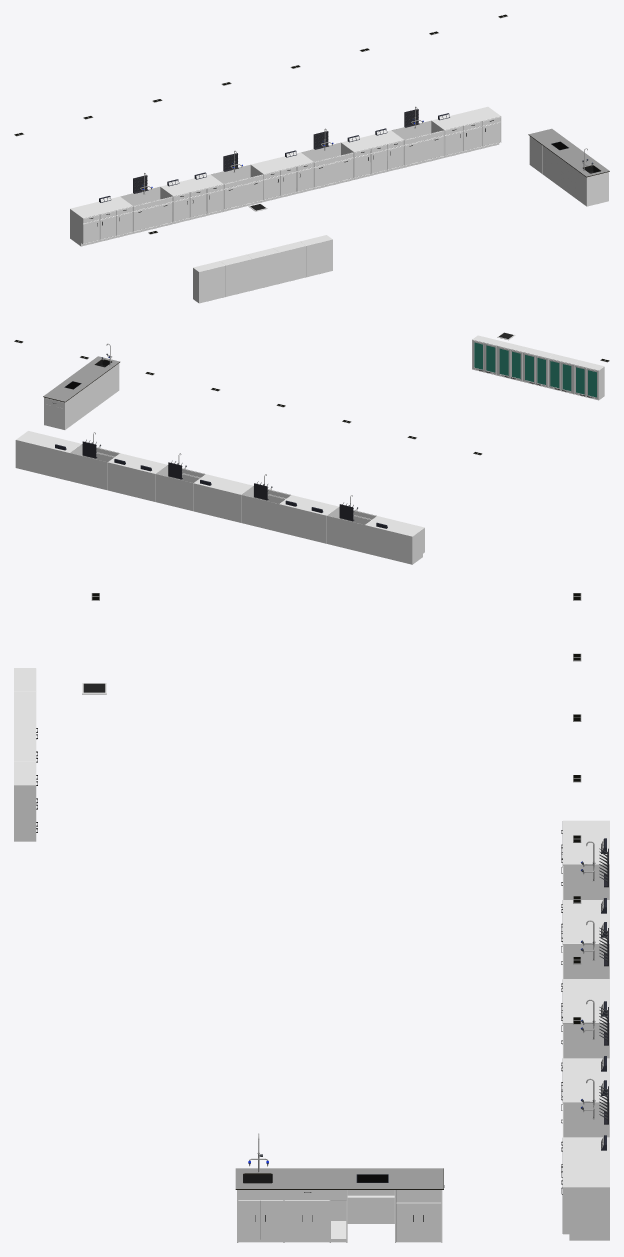
The picture shows the model from 3 angles, top to bottom: view 1: azimuth 30°, elevation 25°; view 2: azimuth 150°, elevation 25°; view 3: azimuth 270°, elevation 25°; orthographic projection. The views are drawn at different scales.
Visible parts, largest first — view 1: Obj3d66-1109493-598-547, Obj3d66-1109493-537-709, Obj3d66-1109493-487-641, Obj3d66-1109493-530-823, Obj3d66-1109493-408-890, Obj3d66-1109493-406-767, Obj3d66-1109493-528-585, Obj3d66-1109493-449-649, Obj3d66-1109493-485-197, Obj3d66-1109493-623-189, Obj3d66-1109493-365-480, Obj3d66-1109493-359-979 (+5 smaller); view 2: Obj3d66-1109493-537-709, Obj3d66-1109493-598-547, Obj3d66-1109493-487-641, Obj3d66-1109493-530-823, Obj3d66-1109493-408-890, Obj3d66-1109493-449-649, Obj3d66-1109493-406-767, Obj3d66-1109493-485-197, Obj3d66-1109493-528-585, Obj3d66-1109493-623-189, Obj3d66-1109493-365-480, Obj3d66-1109493-347-704 (+13 smaller); view 3: Obj3d66-1109493-537-709, Obj3d66-1109493-623-189, Obj3d66-1109493-487-641, Obj3d66-1109493-530-823, Obj3d66-1109493-408-890, Obj3d66-1109493-598-547, Obj3d66-1109493-341-802, Obj3d66-1109493-406-767, Obj3d66-1109493-449-649, Obj3d66-1109493-528-585, Obj3d66-1109493-655-103, Obj3d66-1109493-634-145 (+5 smaller).
Part boxes in pixels (box(x1,y1,x2,y2)): Obj3d66-1109493-598-547: box(70, 196, 133, 246); Obj3d66-1109493-537-709: box(431, 106, 501, 158); Obj3d66-1109493-487-641: box(250, 152, 313, 202); Obj3d66-1109493-530-823: box(341, 130, 404, 180); Obj3d66-1109493-408-890: box(160, 174, 223, 224); Obj3d66-1109493-406-767: box(120, 187, 173, 234); Obj3d66-1109493-528-585: box(391, 120, 444, 168); Obj3d66-1109493-449-649: box(211, 164, 263, 212); Obj3d66-1109493-485-197: box(301, 142, 353, 190); Obj3d66-1109493-623-189: box(528, 128, 609, 177); Obj3d66-1109493-365-480: box(193, 261, 225, 303); Obj3d66-1109493-359-979: box(220, 254, 252, 296); Obj3d66-1109493-537-709: box(15, 431, 81, 480); Obj3d66-1109493-598-547: box(365, 516, 424, 564); Obj3d66-1109493-487-641: box(193, 474, 253, 522); Obj3d66-1109493-530-823: box(108, 453, 167, 501); Obj3d66-1109493-408-890: box(279, 495, 338, 543); Obj3d66-1109493-449-649: box(241, 486, 291, 531); Obj3d66-1109493-406-767: box(327, 506, 376, 552); Obj3d66-1109493-485-197: box(155, 465, 205, 511); Obj3d66-1109493-528-585: box(69, 444, 119, 490); Obj3d66-1109493-623-189: box(43, 356, 119, 402); Obj3d66-1109493-365-480: box(573, 360, 604, 400); Obj3d66-1109493-347-704: box(497, 341, 528, 381); Obj3d66-1109493-537-709: box(562, 1137, 609, 1240); Obj3d66-1109493-623-189: box(235, 1168, 443, 1189); Obj3d66-1109493-487-641: box(562, 979, 609, 1058); Obj3d66-1109493-530-823: box(562, 1058, 609, 1137); Obj3d66-1109493-408-890: box(562, 900, 609, 978); Obj3d66-1109493-598-547: box(562, 820, 609, 877); Obj3d66-1109493-341-802: box(14, 762, 36, 841); Obj3d66-1109493-406-767: box(562, 864, 609, 899); Obj3d66-1109493-449-649: box(562, 944, 609, 978); Obj3d66-1109493-528-585: box(562, 1102, 609, 1137); Obj3d66-1109493-655-103: box(347, 1190, 394, 1223); Obj3d66-1109493-634-145: box(260, 1200, 283, 1239).
Bounding box in the file's own units: 14937 × 8590 × 3580.
